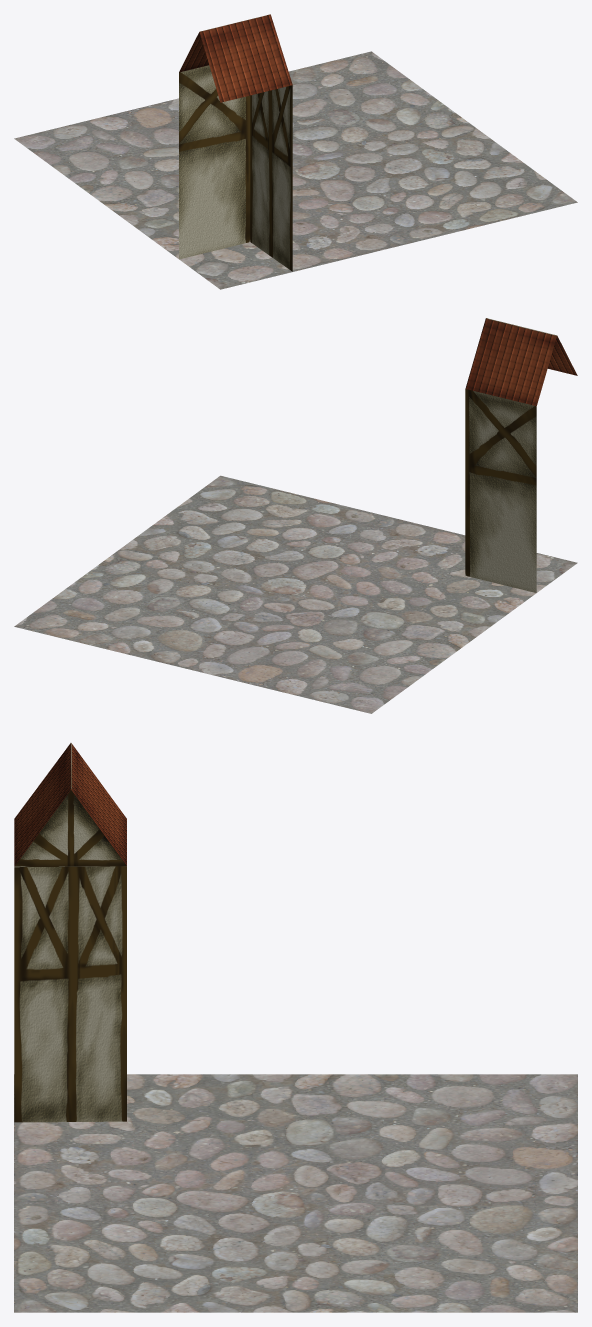
The model's file is 3-5_Edge_wall_A1.fbx.
The picture shows the model from 3 angles, top to bottom: view 1: azimuth 30°, elevation 25°; view 2: azimuth 150°, elevation 25°; view 3: azimuth 270°, elevation 25°; orthographic projection. The views are drawn at different scales.
Parts seen in each view (by area): view 1: Edge_Wall_V1; view 2: Edge_Wall_V1; view 3: Edge_Wall_V1.
Part boxes in pixels (x1,y1,x2,y2): Edge_Wall_V1: [14, 14, 577, 289]; Edge_Wall_V1: [14, 318, 577, 713]; Edge_Wall_V1: [14, 743, 577, 1312].
Size of the model in its own units: 100 by 64.88 by 100.
Materials: 2 (2 with a texture image).
